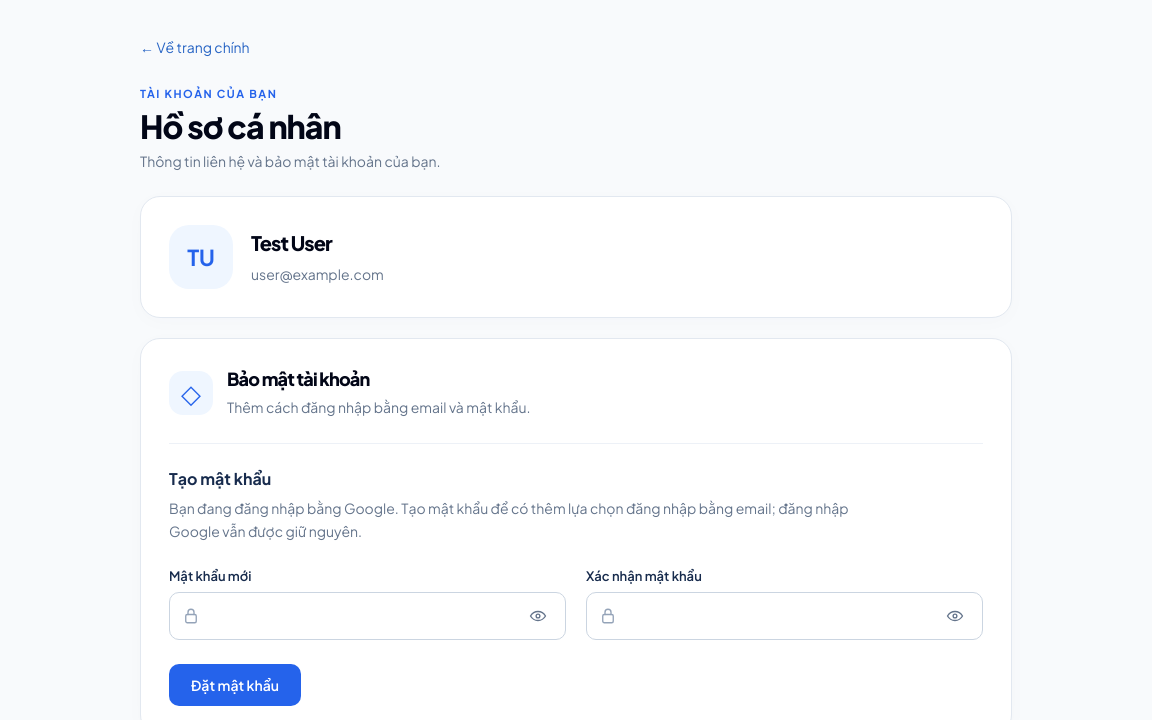
Test case: profile local password setup › offers password setup only for Google-only identity, then hides it after success
Type "NewPassword123!" into the password field labelled "Mật khẩu mới" at (362, 616), box x1=210 y1=593 x2=513 y2=639
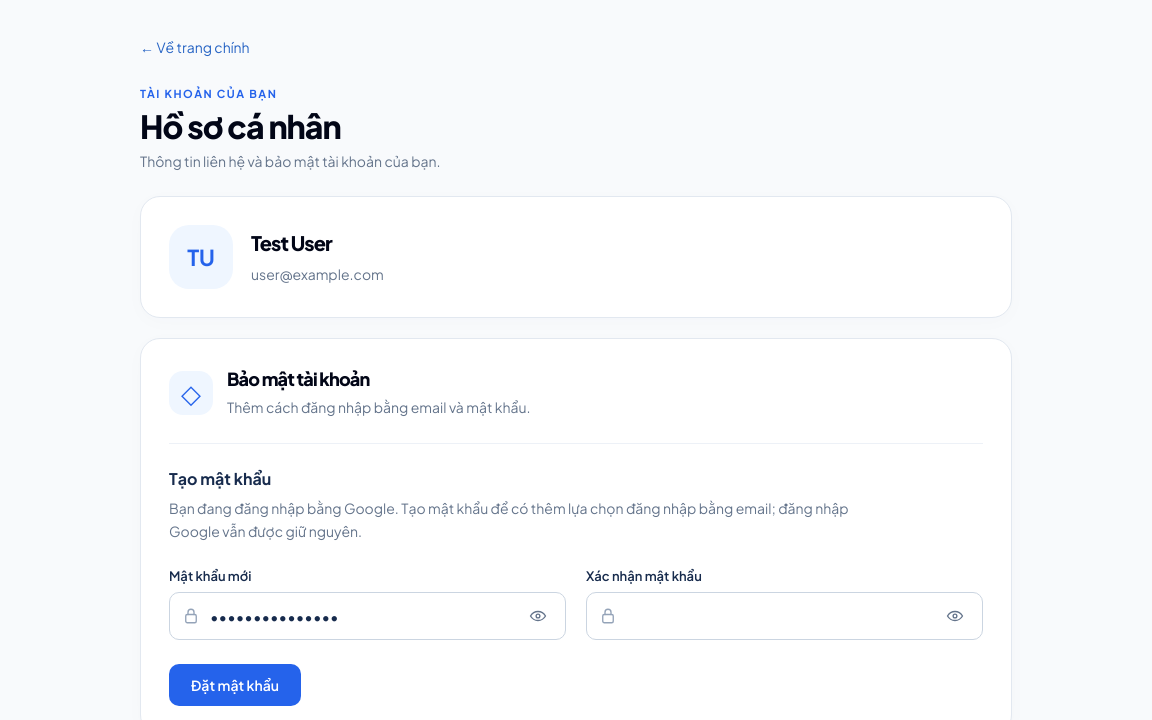
Type "NewPassword123!" into the password field labelled "Xác nhận mật khẩu" at (778, 616), box x1=627 y1=593 x2=930 y2=639
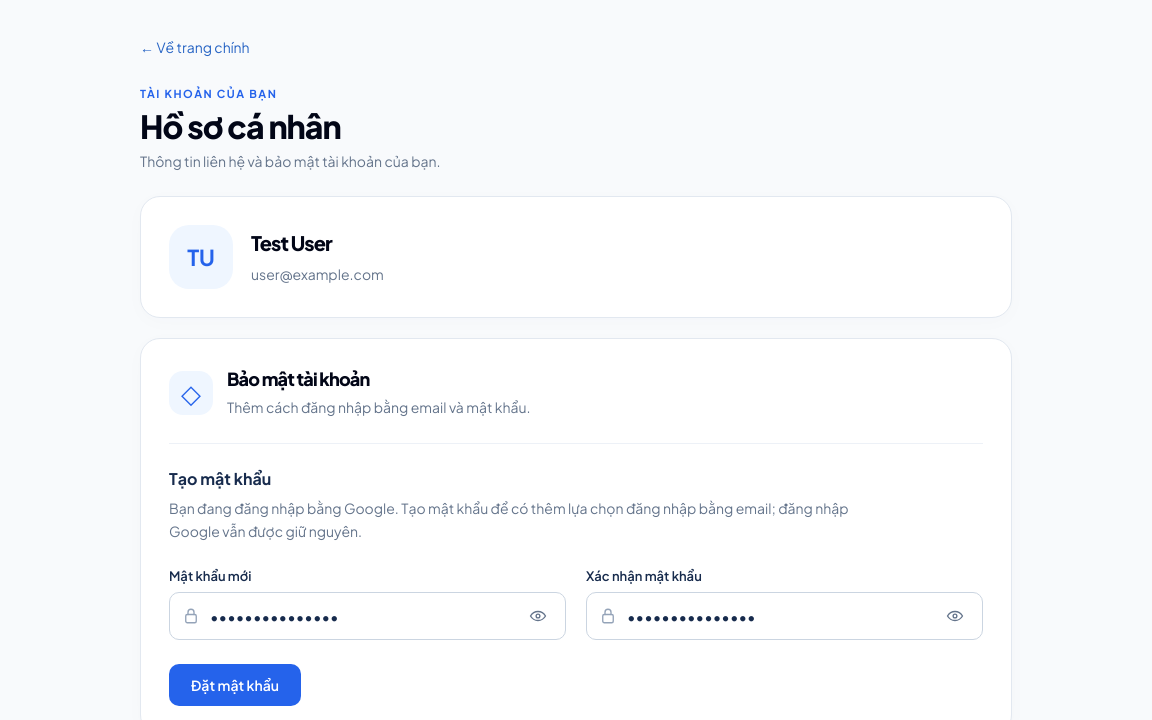
Click the button "Đặt mật khẩu" at (235, 685), box x1=169 y1=664 x2=301 y2=706
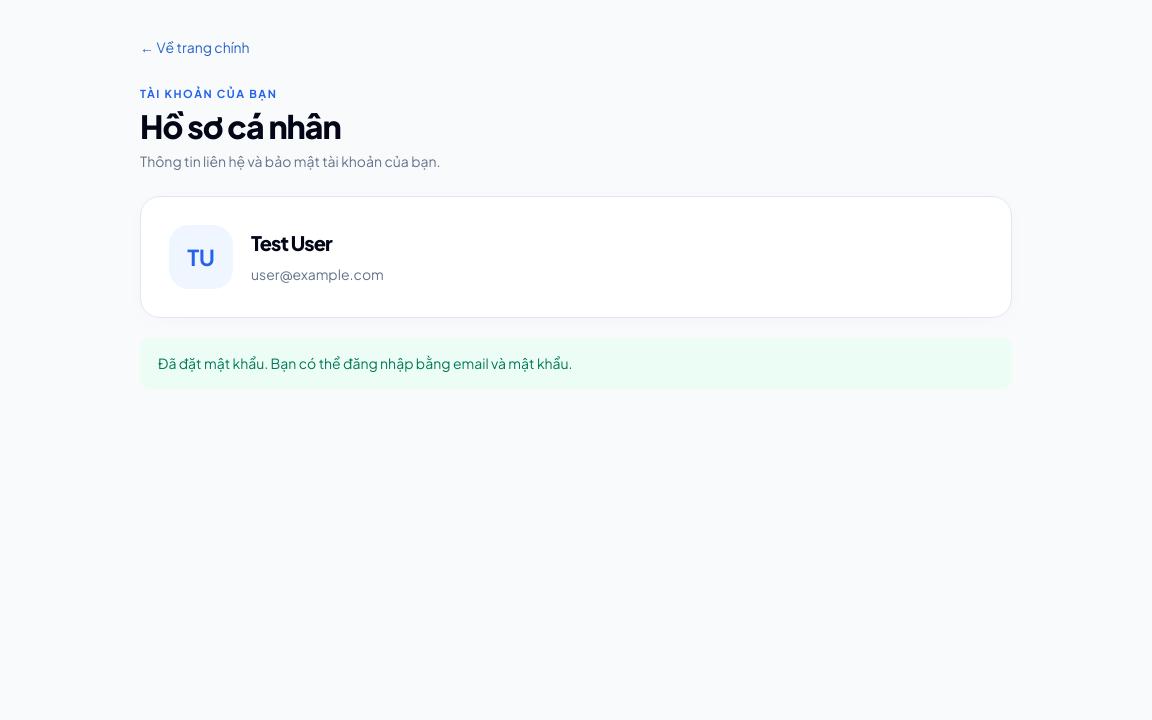
Check: the message "Đã đặt mật khẩu. Bạn có thể đăng nhập bằng email và mật khẩu." is shown, box x1=140 y1=338 x2=1012 y2=388
Check: the label labelled "Mật khẩu mới" is gone
